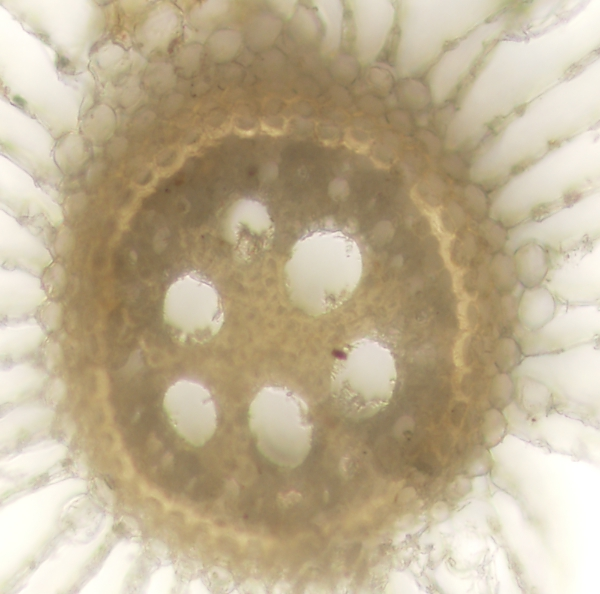lm: (282, 230, 362, 318), (328, 337, 396, 423), (248, 387, 312, 466), (162, 274, 224, 345), (215, 198, 275, 260), (162, 380, 218, 445)
